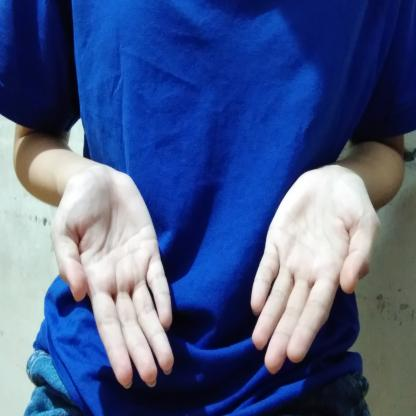what: (46, 146, 395, 398)
